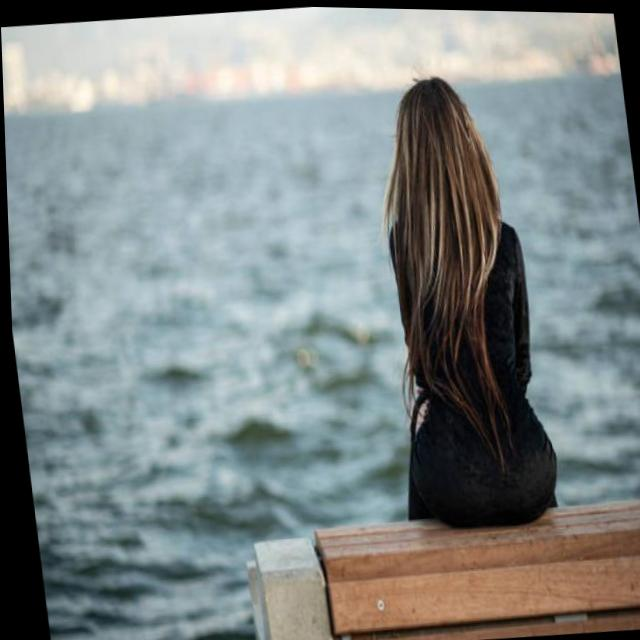no helmet: (382, 69, 494, 234)
